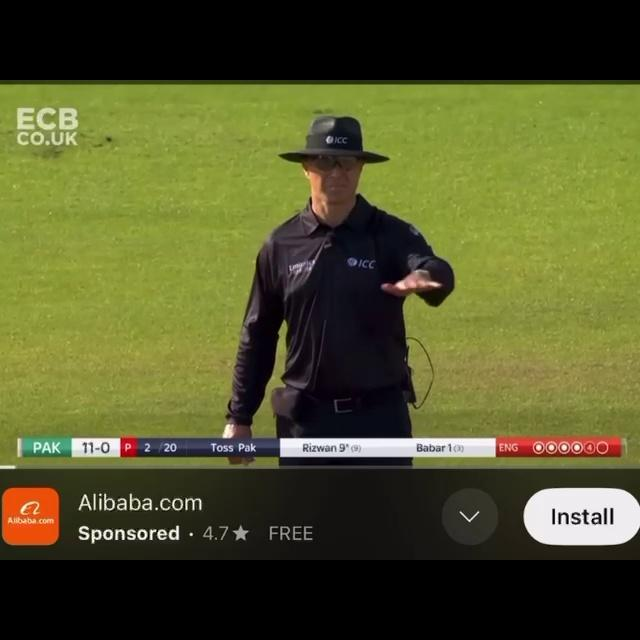umpire: (210, 120, 506, 440)
